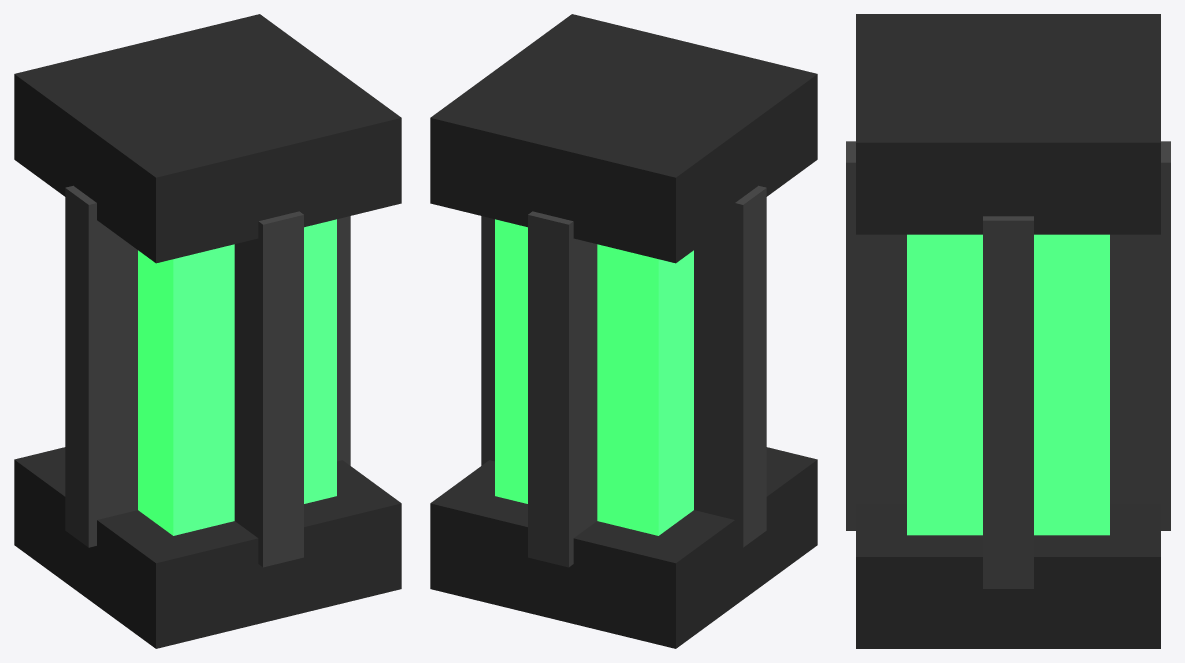
The model's file is plasma_cell.glb.
3 views of the same model, side by side, from view 1: azimuth 30°, elevation 25°; view 2: azimuth 150°, elevation 25°; view 3: azimuth 270°, elevation 25° (orthographic). The views are drawn at different scales.
Visible parts, largest first — view 1: Body; view 2: Body; view 3: Body.
Boxes of the visible parts, x1=… form: Body: x1=14, y1=14, x2=401, y2=648; Body: x1=430, y1=14, x2=817, y2=648; Body: x1=846, y1=14, x2=1170, y2=648.
Size of the model in its own units: 0.32 by 0.55 by 0.32.
